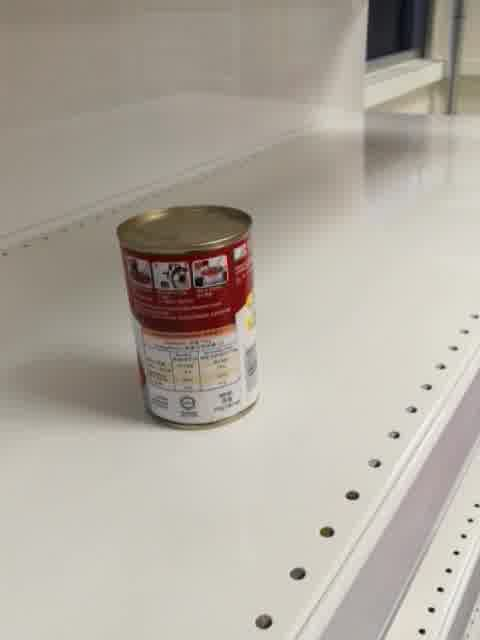tomatosoup: (115, 203, 263, 432)
